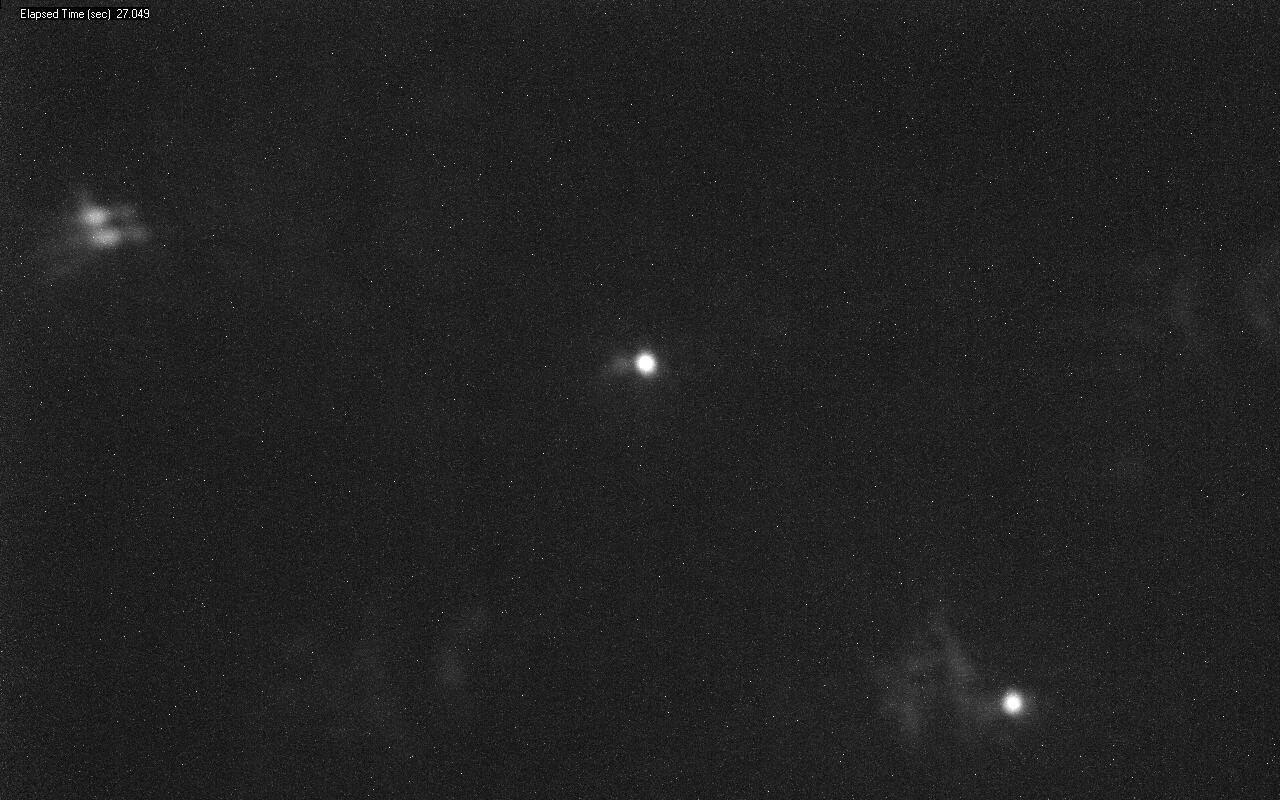Bead: (636, 351, 657, 376), (1004, 691, 1020, 714)
